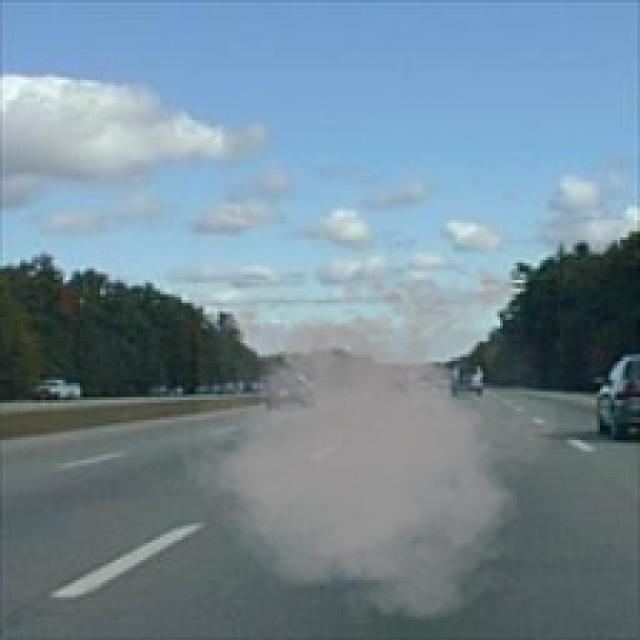Smoke: (160, 254, 577, 626)
